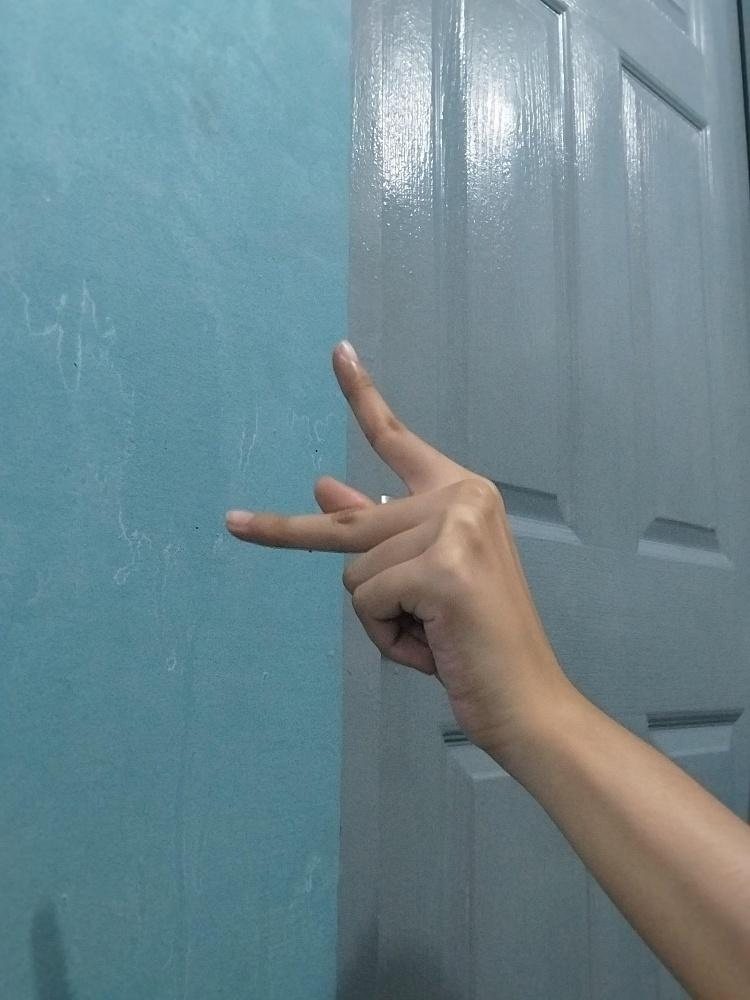k: (225, 338, 532, 743)
